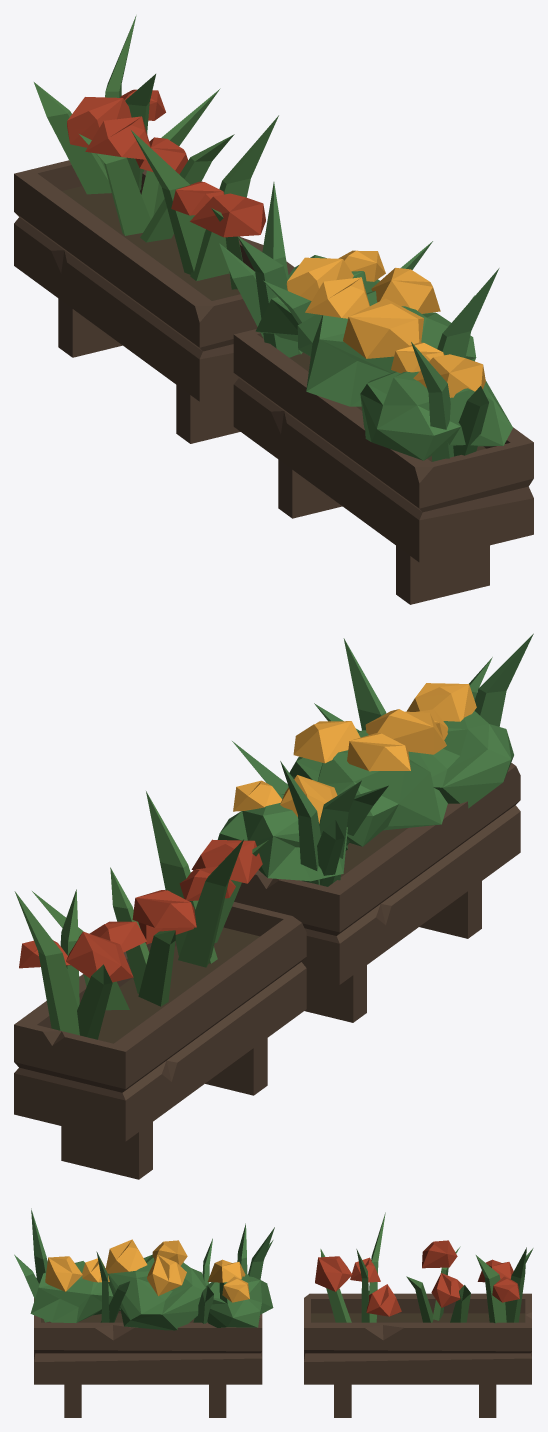
File: dividers-planter-box.glb
The picture shows the model from 3 angles, top to bottom: view 1: azimuth 30°, elevation 25°; view 2: azimuth 150°, elevation 25°; view 3: azimuth 270°, elevation 25°; orthographic projection. The views are drawn at different scales.
Visible parts, largest first — view 1: planter-box; view 2: planter-box; view 3: planter-box.
Boxes of the visible parts, x1=… form: planter-box: x1=14, y1=15, x2=533, y2=604; planter-box: x1=14, y1=633, x2=533, y2=1179; planter-box: x1=14, y1=1208, x2=533, y2=1417.
Size of the model in its own units: 0.5545 by 0.892 by 2.36.
Materials: 1 (1 with a texture image).
